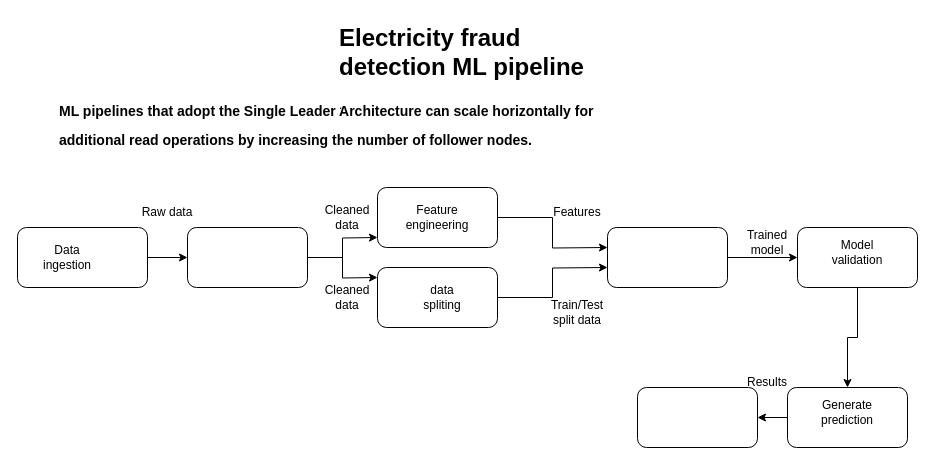
Some shapes in this 935 by 465 pixel diagram are drawn without their labels. The shapes that lost their labels are listed below. From the top down, each one's centre as x and y in pixels, then its label:
the point at 247,257: Data Preprocessing
the point at 667,257: Model training
the point at 697,417: Predictions
